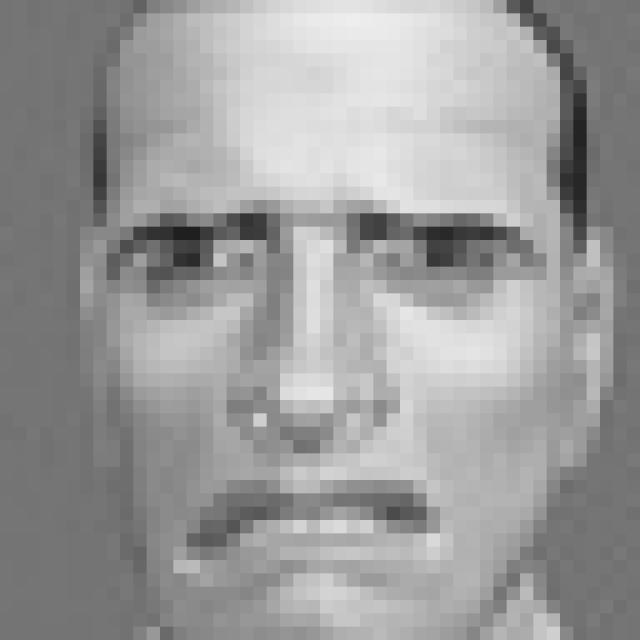disgust: (98, 200, 550, 597)
